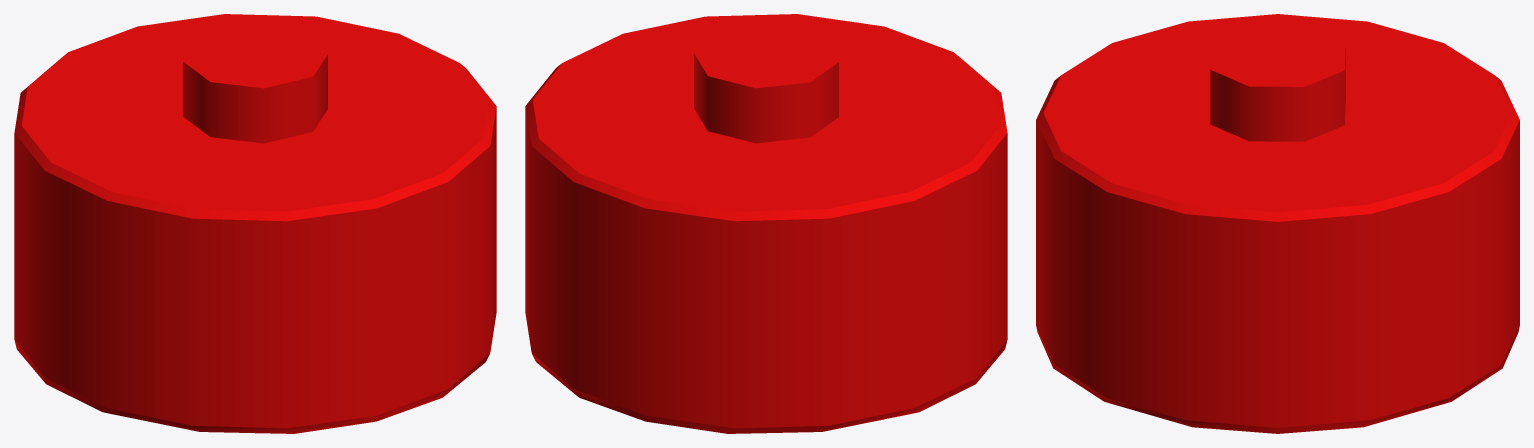
The picture shows the model from 3 angles, left to right: view 1: azimuth 30°, elevation 25°; view 2: azimuth 150°, elevation 25°; view 3: azimuth 270°, elevation 25°; orthographic projection.
Parts seen in each view (by area): view 1: Part_D1; view 2: Part_D1; view 3: Part_D1.
Boxes of the visible parts, x1,y1,x2,y2 form: Part_D1: [14, 14, 496, 433]; Part_D1: [525, 14, 1007, 433]; Part_D1: [1036, 14, 1519, 433].
Bounding box in the file's own units: 200 × 125 × 200.
